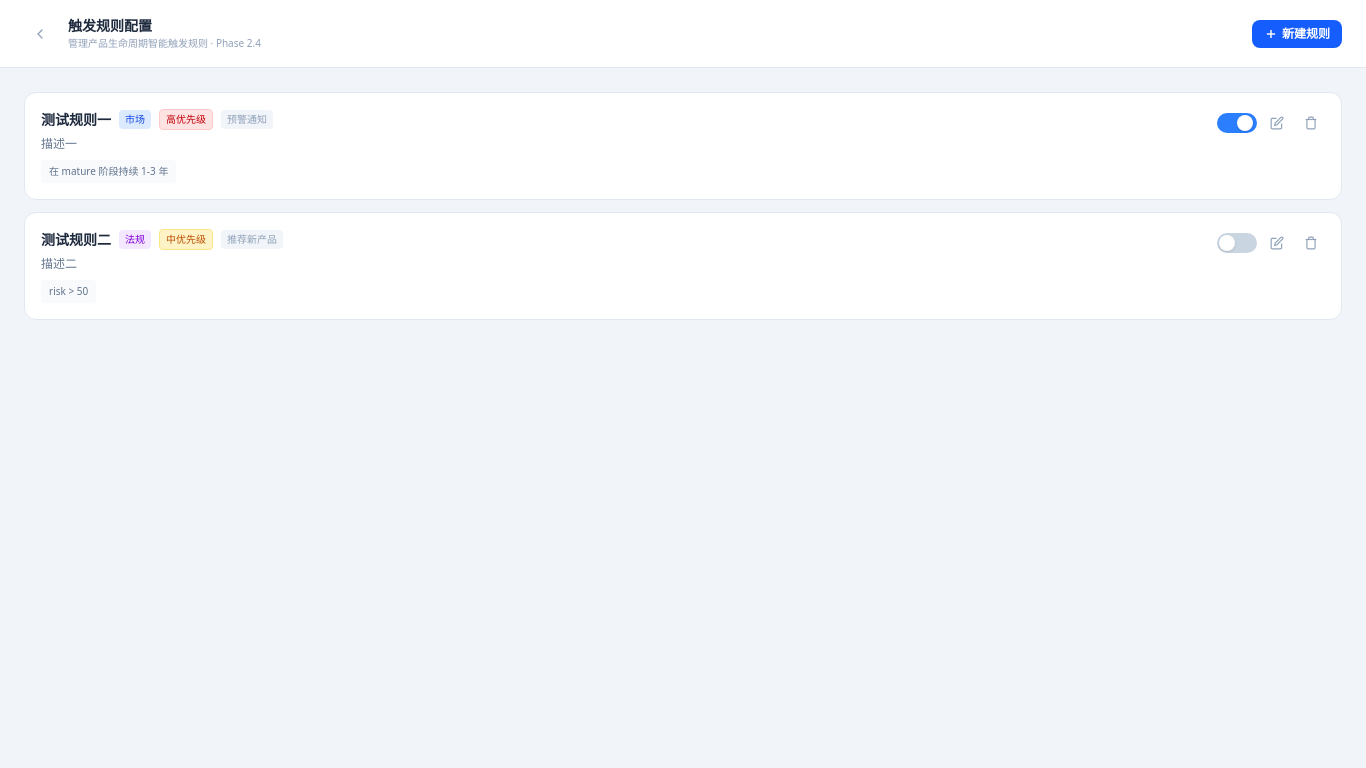
Test case: RuleConfigPanel › opens create dialog when clicking new rule button
The width and height of the screenshot is (1366, 768).
Expected: the heading "测试规则一" is shown, left=41, top=110, right=111, bottom=130
Click the button "新建规则" at (1297, 34), box left=1252, top=20, right=1342, bottom=48
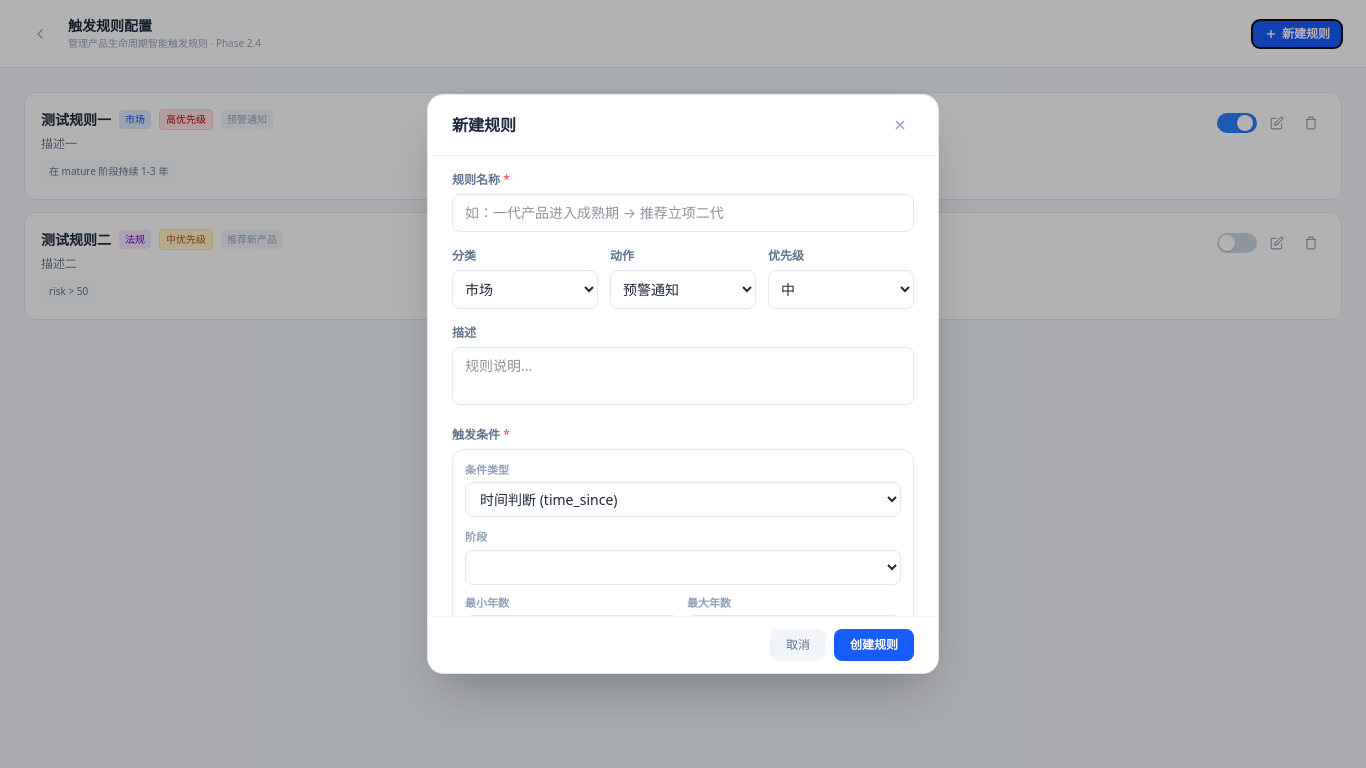
Expected: the button "创建规则" is shown, left=834, top=629, right=914, bottom=661
